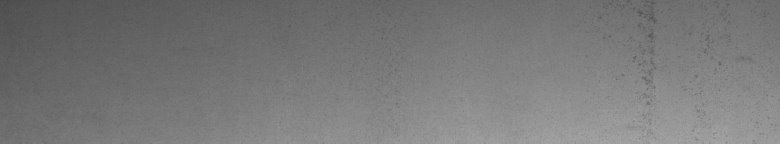ib: (629, 8, 751, 105)
